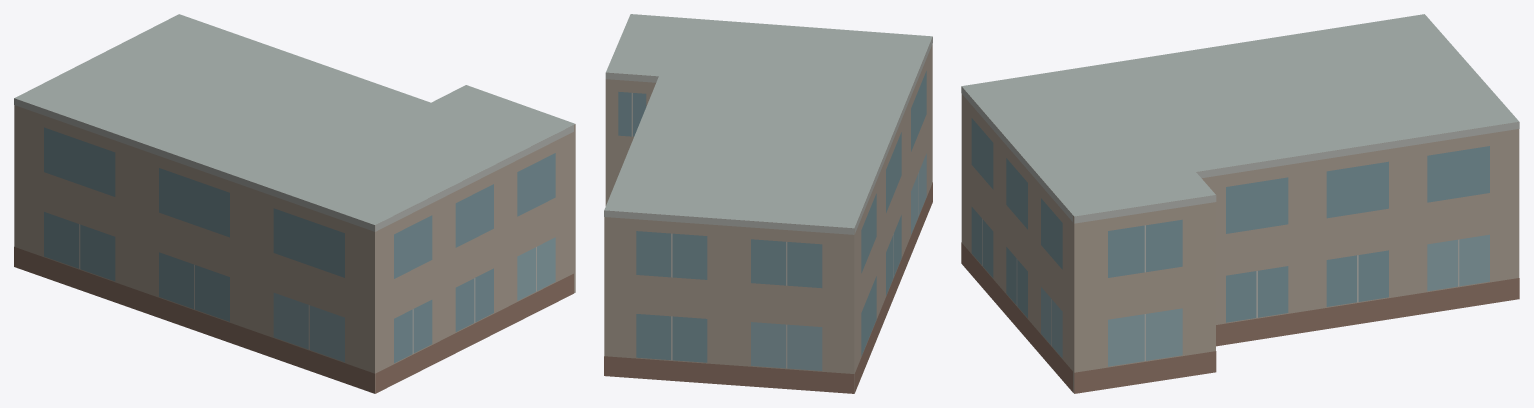
The model's file is survey-upis-32698429.glb.
3 renders of one model, left to right at view 1: azimuth 30°, elevation 25°; view 2: azimuth 150°, elevation 25°; view 3: azimuth 270°, elevation 25°, orthographic. The views are drawn at different scales.
Visible parts, largest first — view 1: survey-upis-32698429.tmp; view 2: survey-upis-32698429.tmp; view 3: survey-upis-32698429.tmp.
Part boxes in pixels (<box>): survey-upis-32698429.tmp: <box>14,14,575,393</box>; survey-upis-32698429.tmp: <box>604,14,932,393</box>; survey-upis-32698429.tmp: <box>961,14,1519,393</box>.
Bounding box in the file's own units: 14.95 × 6.1 × 17.41.
